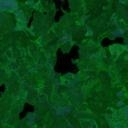alloviz: (52, 43, 81, 77), (50, 1, 72, 23), (99, 35, 125, 49), (18, 101, 35, 120), (26, 10, 35, 28), (1, 81, 7, 94)
